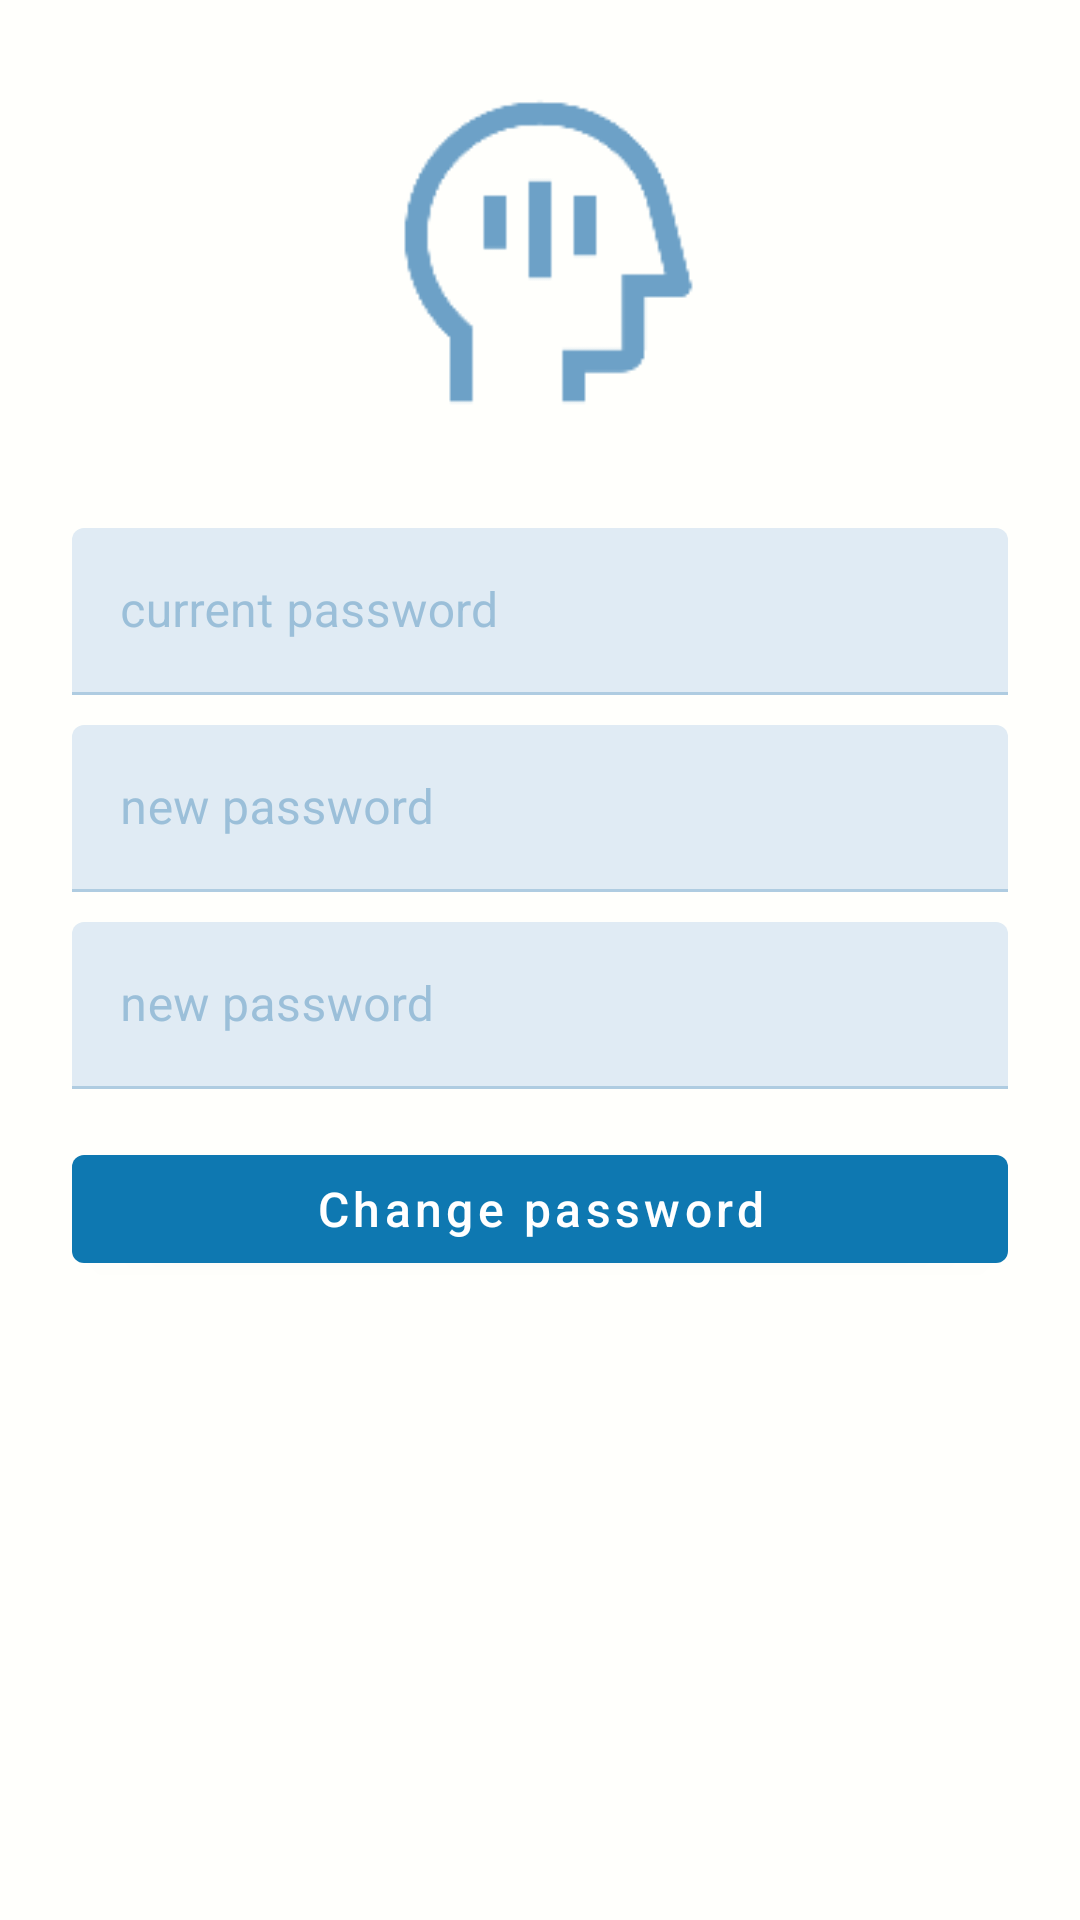

Icon bounding boxes for this 1080x1920 phone screenshot, format (x1, y1, x2, y2):
head: (404, 102, 693, 402)
